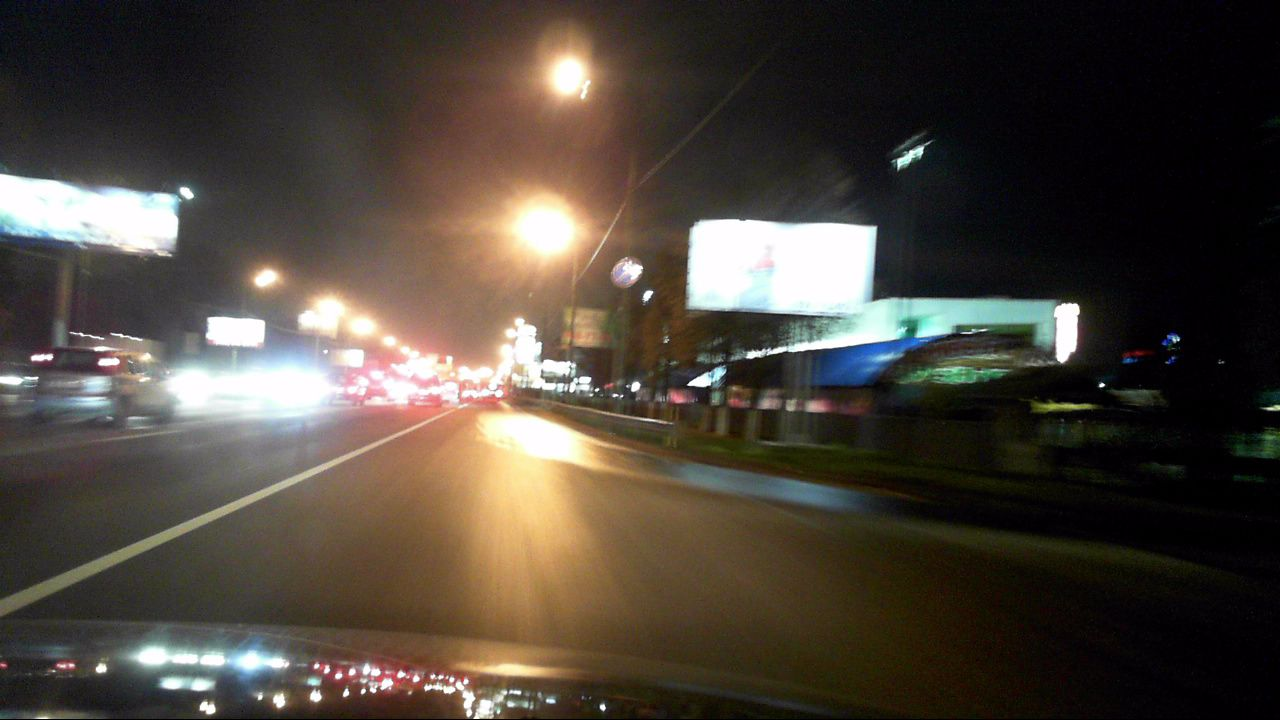No Parking: (610, 258, 641, 288)
